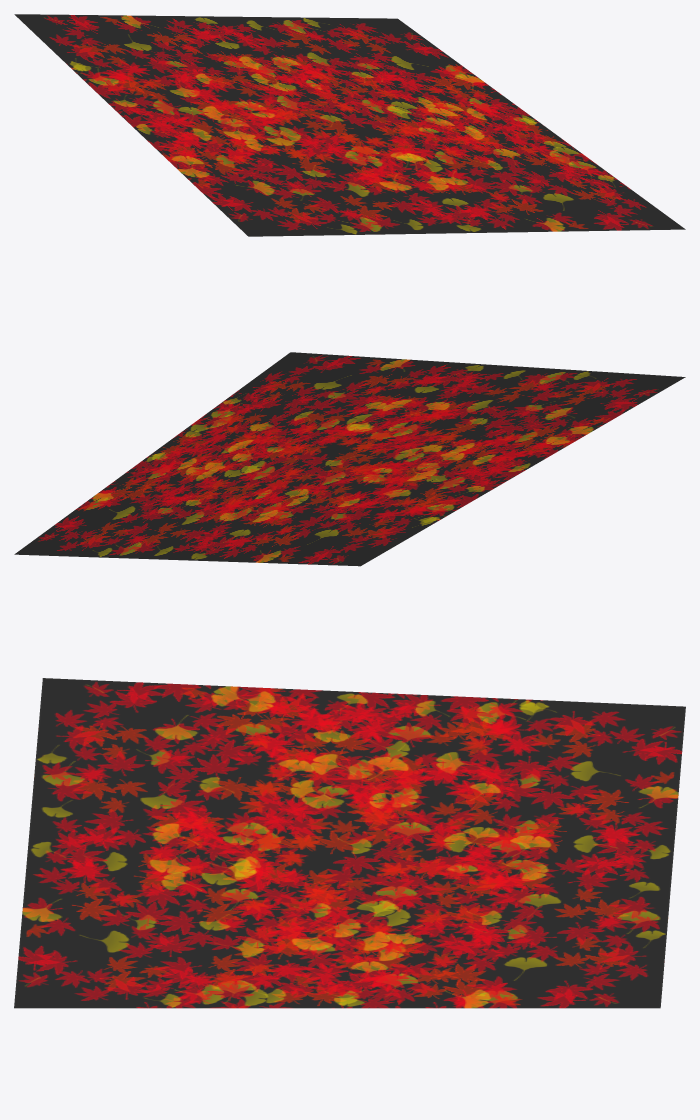
Rendered from CourseAki_CurveFloor_3_40.fbx.
3 views of the same model, one above another, from view 1: azimuth 30°, elevation 25°; view 2: azimuth 150°, elevation 25°; view 3: azimuth 270°, elevation 25° (orthographic). The views are drawn at different scales.
Parts seen in each view (by area): view 1: polySurface227; view 2: polySurface227; view 3: polySurface227.
Boxes of the visible parts, x1,y1,x2,y2 form: polySurface227: (14, 14, 685, 236); polySurface227: (14, 352, 685, 566); polySurface227: (14, 678, 685, 1008).
Size of the model in its own units: 5.1 by 2 by 6.23.
1 material, 1 textured.
